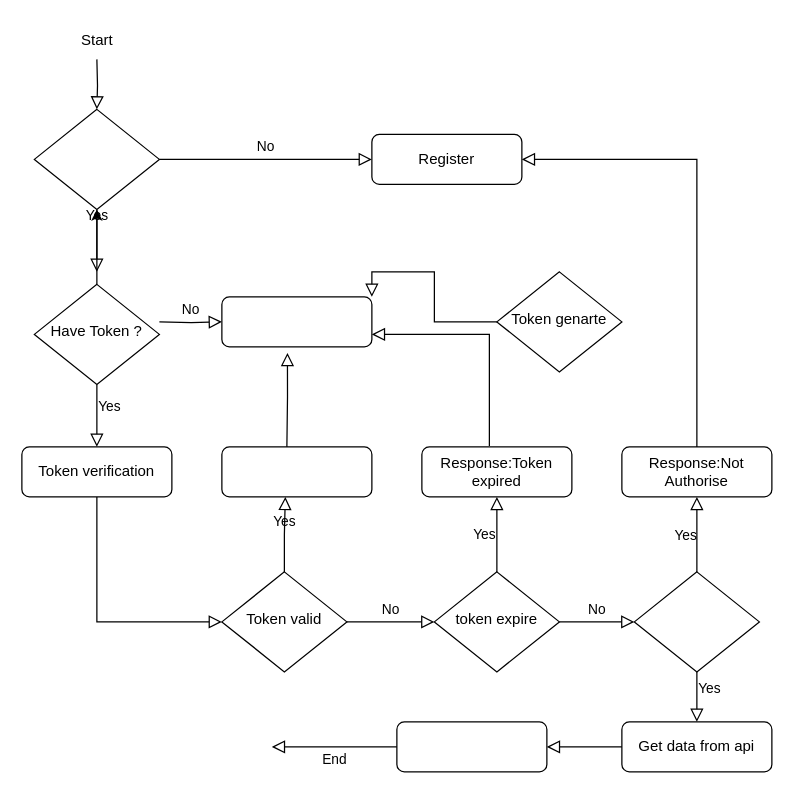
Image size: 794x794. Some labels were removed from this diagram. The shapes that lost their labels are listed below. From the top down, each one's centre as x and y in pixels, then its label:
At [96,158]: "Have account".
At [296,321]: "Input credencials".
At [296,471]: "Response:Token invalid".
At [696,621]: "Have access".
At [471,746]: "Response:JSON".
